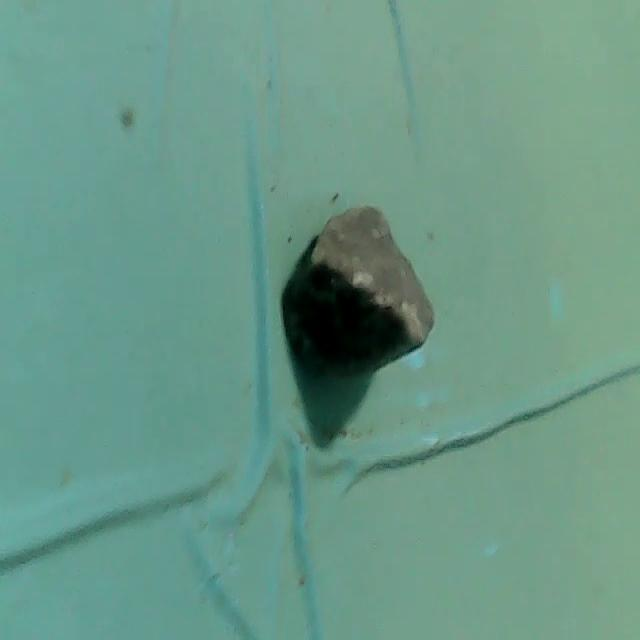rock: (290, 205, 437, 379)
